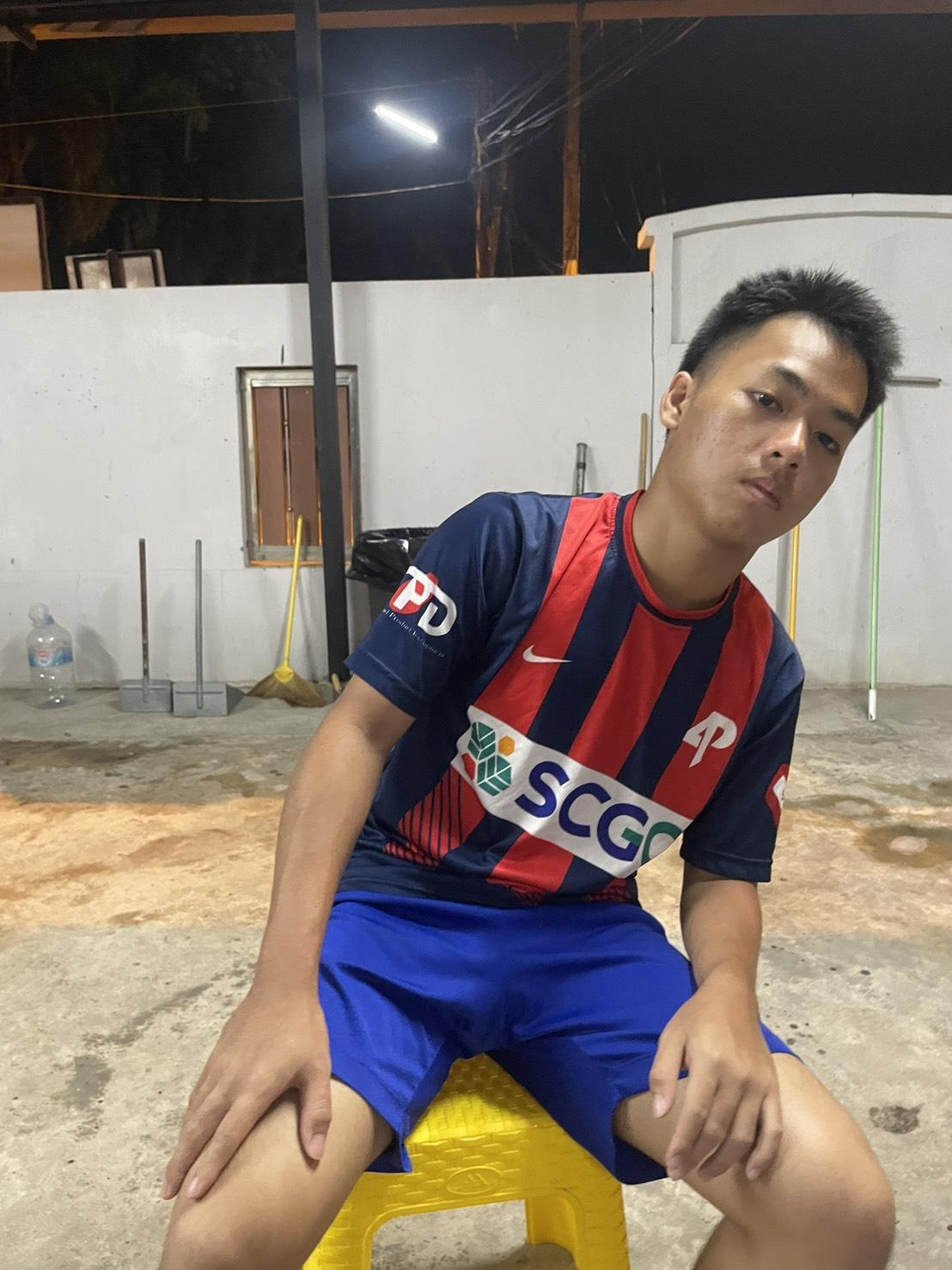BadPosture: (159, 268, 900, 1269), (340, 266, 900, 909)
